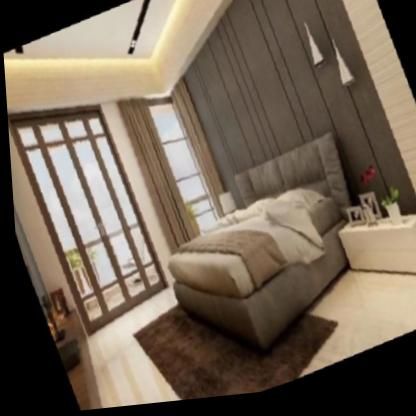Bed: (137, 146, 361, 364)
Lamp: (269, 0, 331, 84)
Nightstand: (328, 203, 416, 312)
